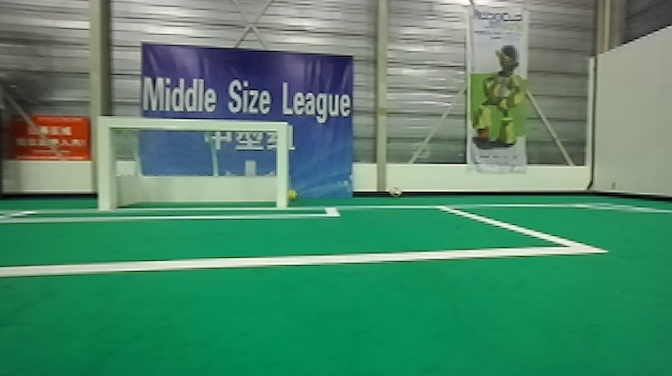ball: (383, 182, 403, 201), (283, 185, 299, 204)
goalpost: (87, 113, 118, 220), (271, 119, 293, 211)
